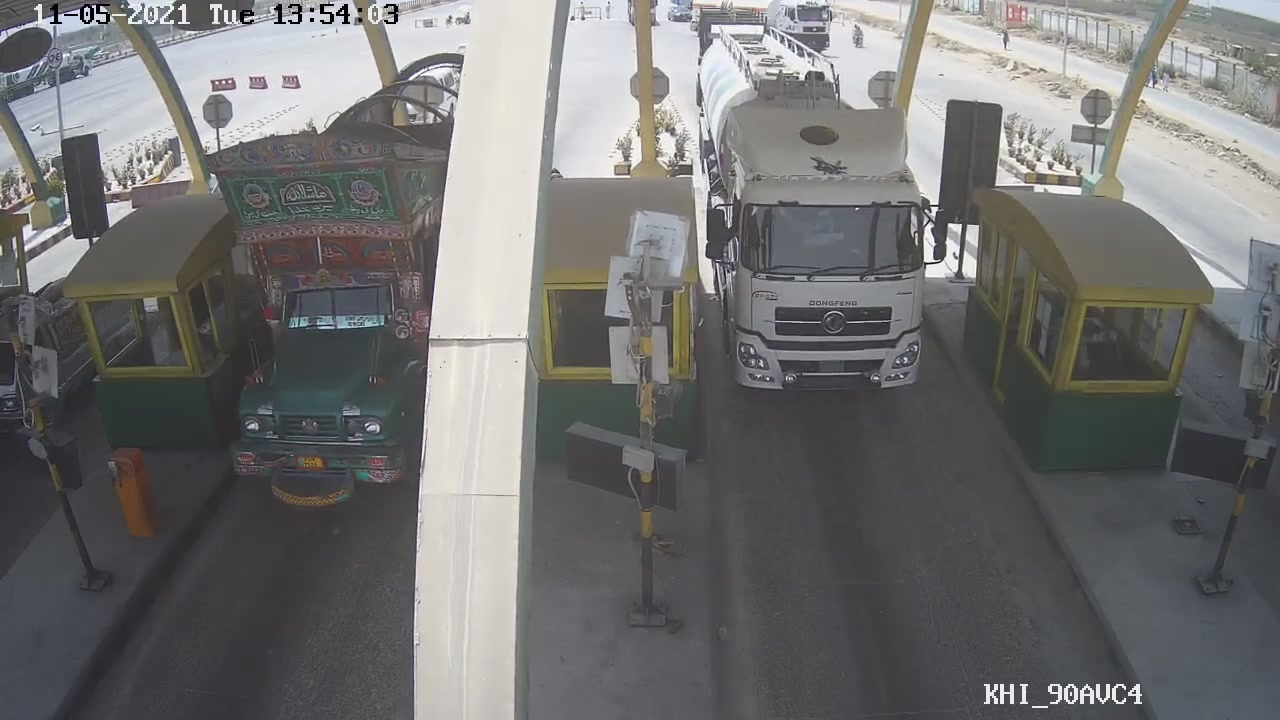F6: (697, 51, 956, 408)
